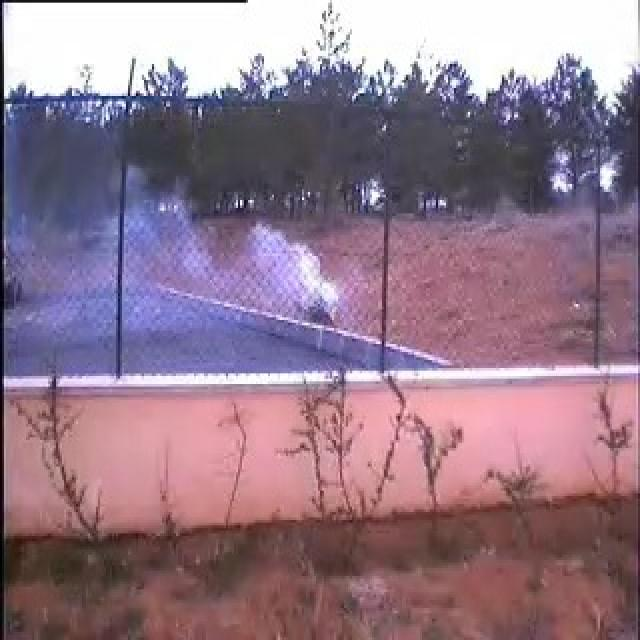smoke: (53, 151, 348, 373)
